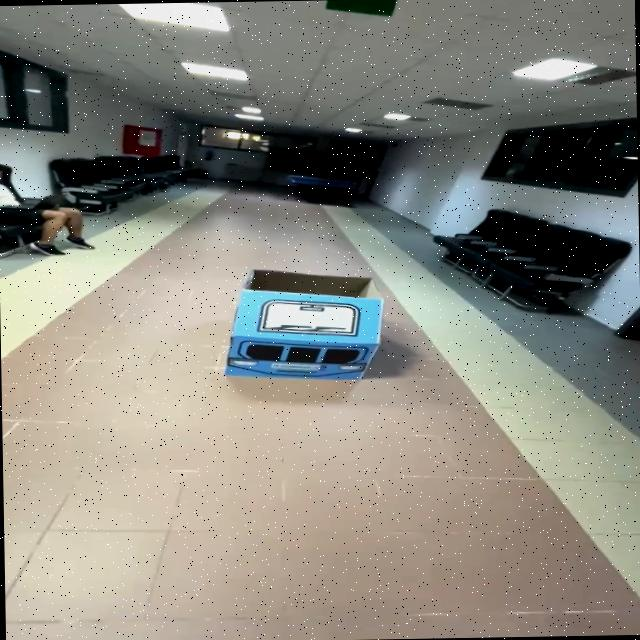blue_car: (212, 257, 408, 396)
